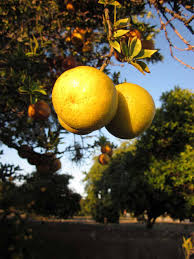orange: (51, 59, 117, 128), (107, 78, 162, 139)
